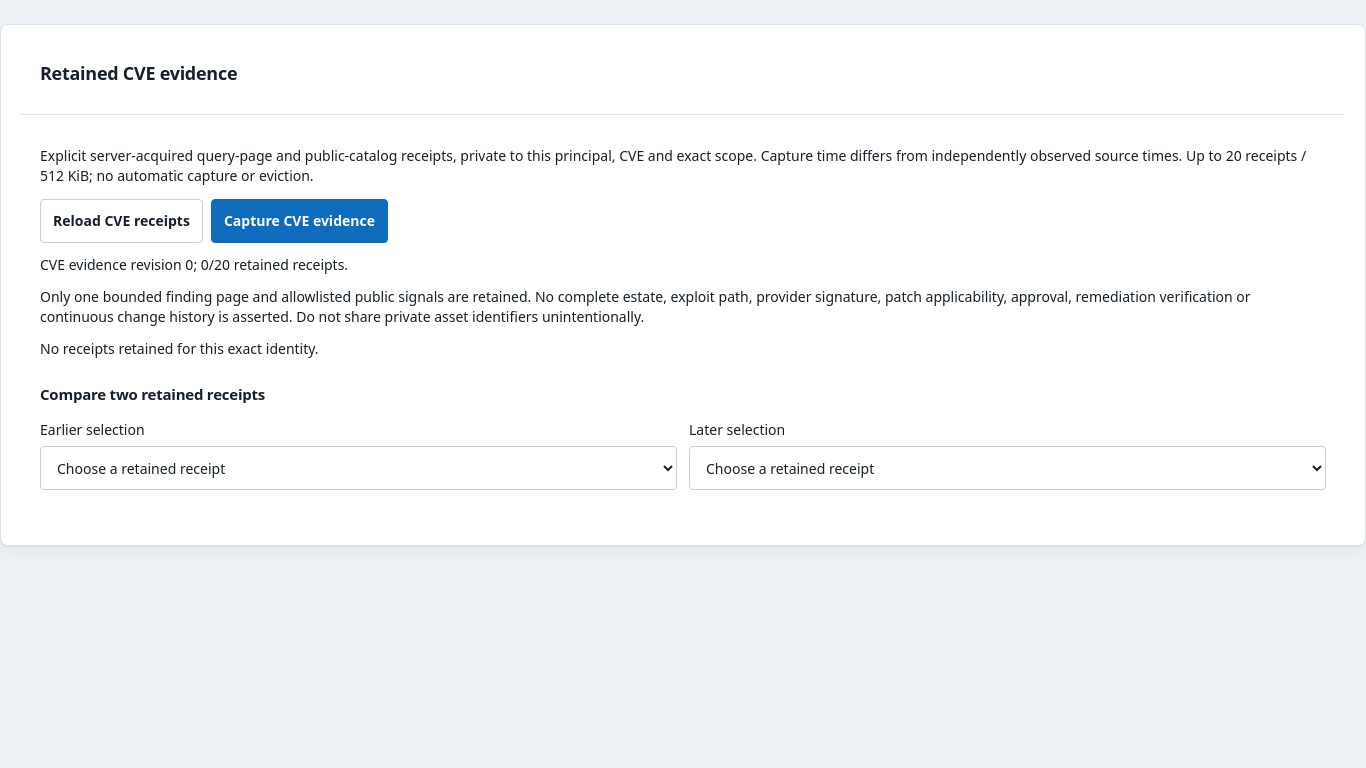
Test: Private retained CVE evidence › rejects capture metadata corruption: scope
Expected: the text "CVE evidence revision 0; 0/20 retained receipts." is shown, x1=40 y1=255 x2=348 y2=274
Click the button "Capture CVE evidence": point(299, 221) x1=211 y1=199 x2=388 y2=243
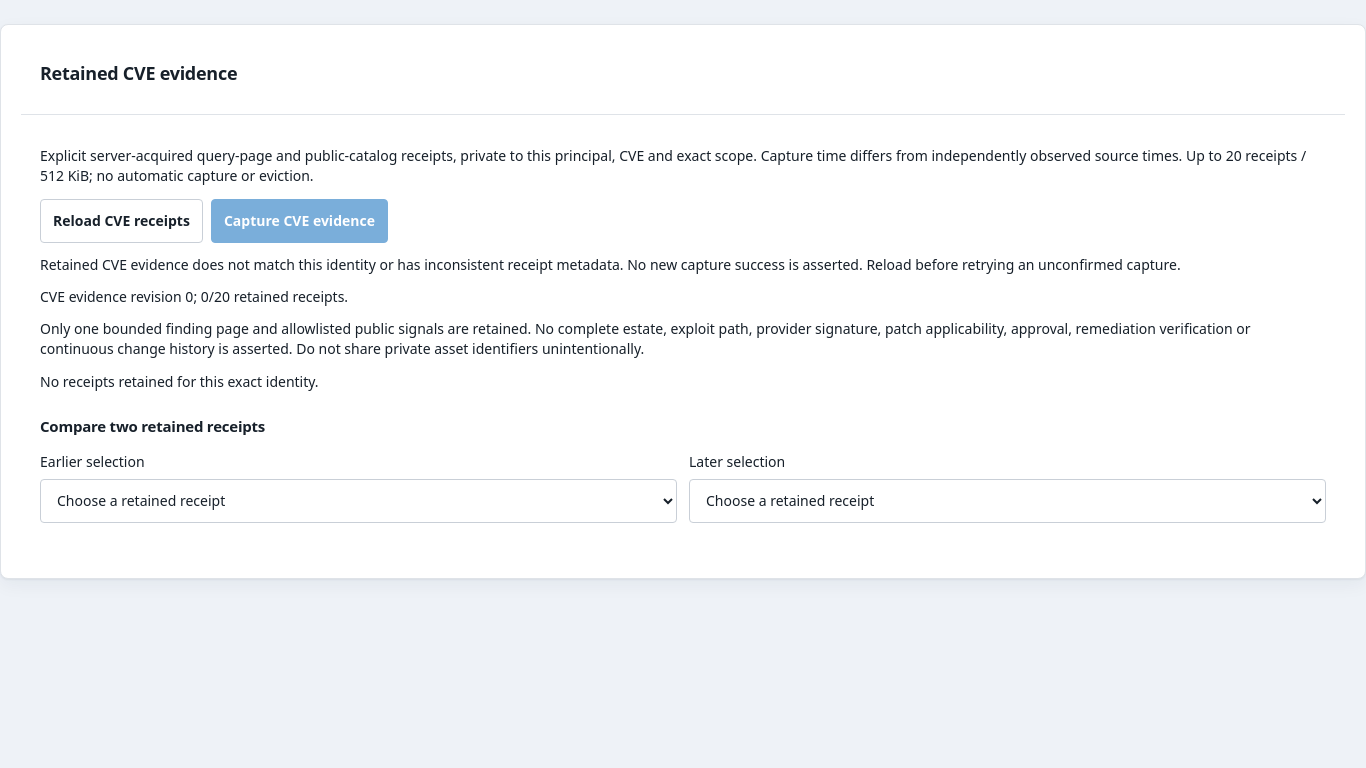
Result: the message is shown at x1=40 y1=255 x2=1326 y2=275
Result: the button "Capture CVE evidence" is disabled at x1=211 y1=199 x2=388 y2=243
